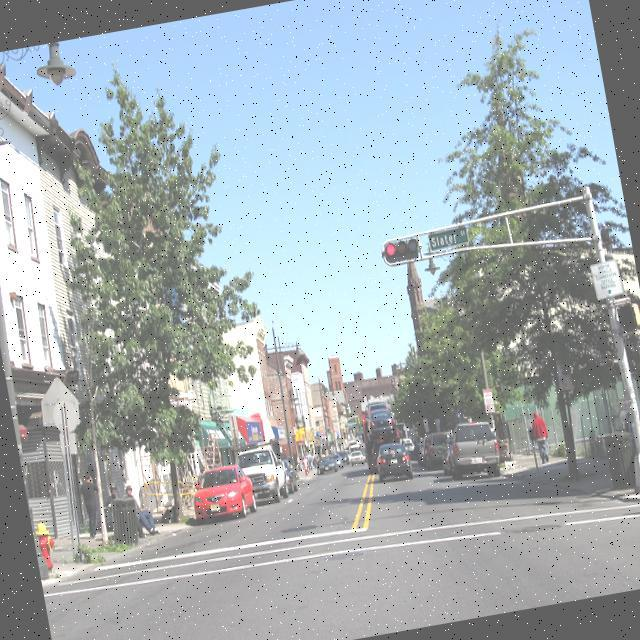fire_hydrant: (34, 519, 59, 571)
